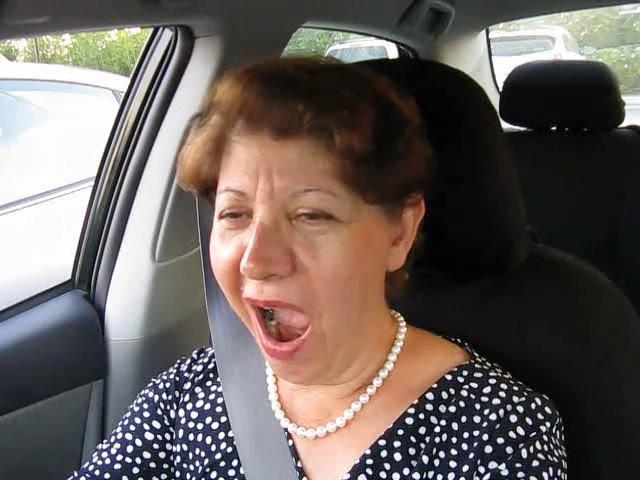close_eyeR: (276, 195, 353, 239)
open_eyeL: (207, 194, 265, 236)
yawn: (230, 290, 329, 363)
